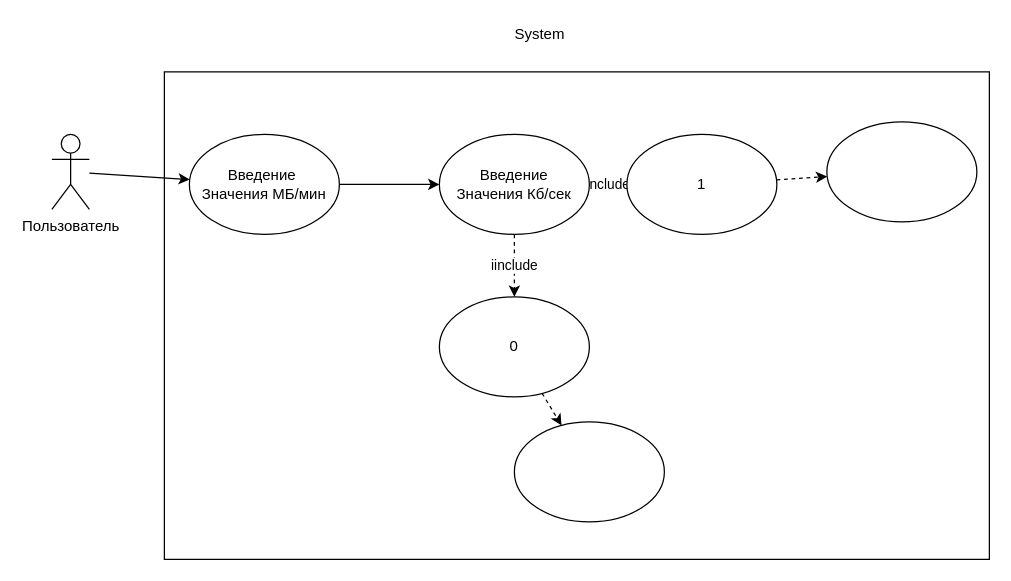
The diagram is 1011 pixels wide and 581 high, and some of its shapes have lost their labels. The centre of each missing label's shape, as x and y in pixels:
"Значение килобит" belongs at point 901,171.
"Значение мегабит" belongs at point 588,471.
